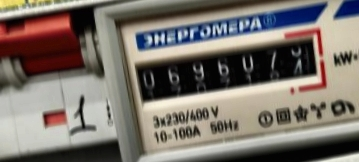0: (236, 49, 254, 72), (137, 66, 154, 89)
4: (287, 54, 303, 77)
6: (162, 62, 179, 84), (211, 54, 228, 76)
7: (261, 47, 279, 70)
9: (186, 58, 202, 81)
screen: (118, 24, 330, 112)
